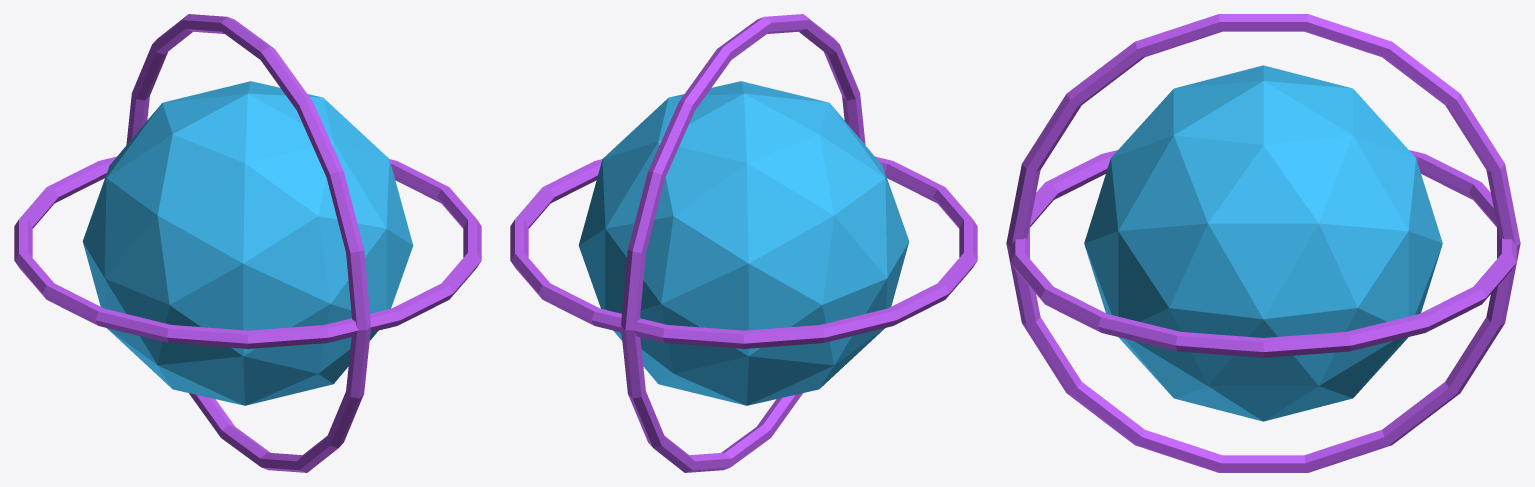
File: sonic_sphere_projectile.glb
3 views of the same model, side by side, from view 1: azimuth 30°, elevation 25°; view 2: azimuth 150°, elevation 25°; view 3: azimuth 270°, elevation 25° (orthographic). The views are drawn at different scales.
Visible parts, largest first — view 1: core, ringY, ringX; view 2: core, ringY, ringX; view 3: core, ringY, ringX.
Part boxes in pixels (<box>): core: <box>82,81,413,405</box>; ringY: <box>126,14,370,472</box>; ringX: <box>14,156,481,348</box>; core: <box>578,81,909,405</box>; ringY: <box>621,14,865,472</box>; ringX: <box>510,156,977,348</box>; core: <box>1084,65,1442,421</box>; ringY: <box>1006,14,1520,472</box>; ringX: <box>1010,150,1516,357</box>.
Size of the model in its own units: 1.29 by 1.27 by 1.29.
